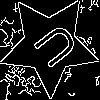U: (24, 20, 81, 77)
